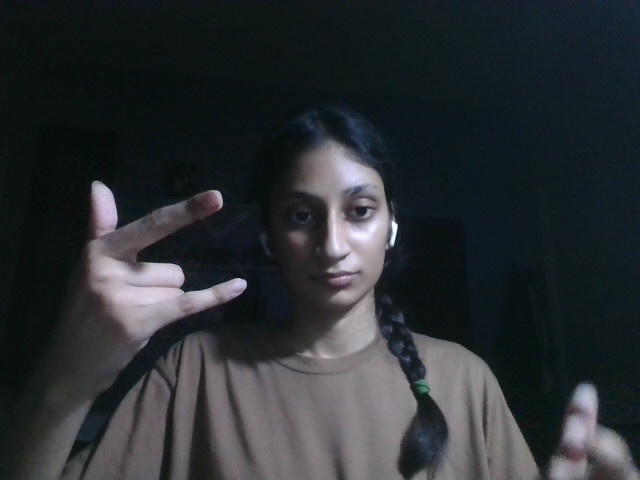i love you: (74, 173, 249, 385)
